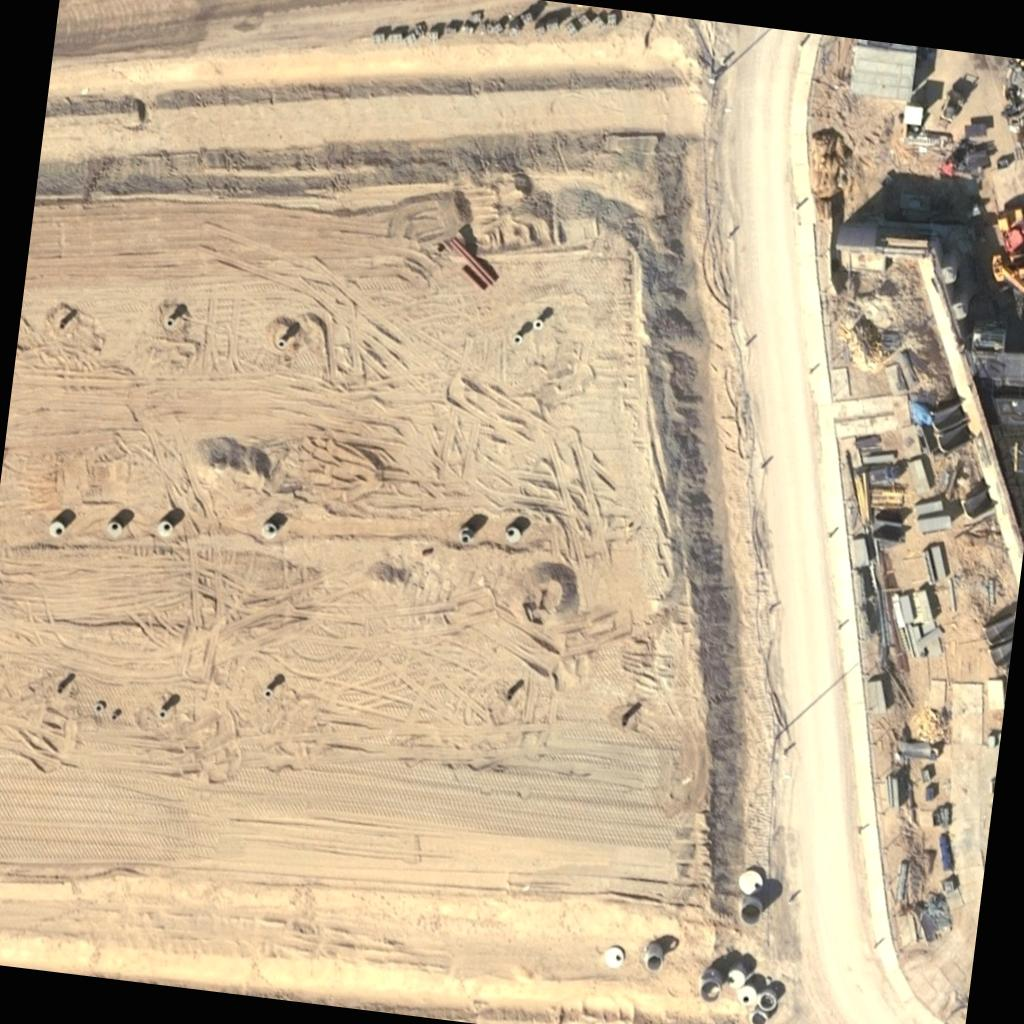zuraw_wiezowy: (972, 200, 1024, 325)
